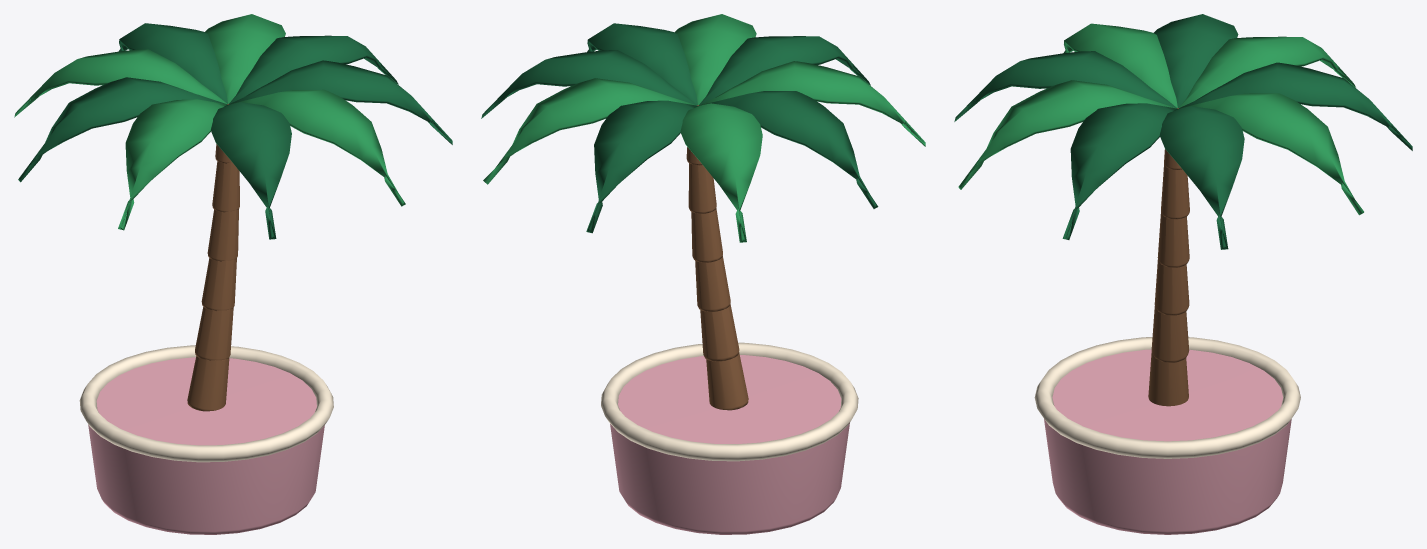
Rendered from mall_palm.glb.
3 renders of one model, left to right at view 1: azimuth 30°, elevation 25°; view 2: azimuth 150°, elevation 25°; view 3: azimuth 270°, elevation 25°, orthographic. The views are drawn at different scales.
Parts seen in each view (by area): view 1: Palm; view 2: Palm; view 3: Palm.
Part boxes in pixels (bbox=[...]): Palm: bbox=[14, 14, 452, 534]; Palm: bbox=[481, 14, 925, 534]; Palm: bbox=[954, 14, 1412, 534].
Size of the model in its own units: 3.65 by 3.76 by 3.61.
